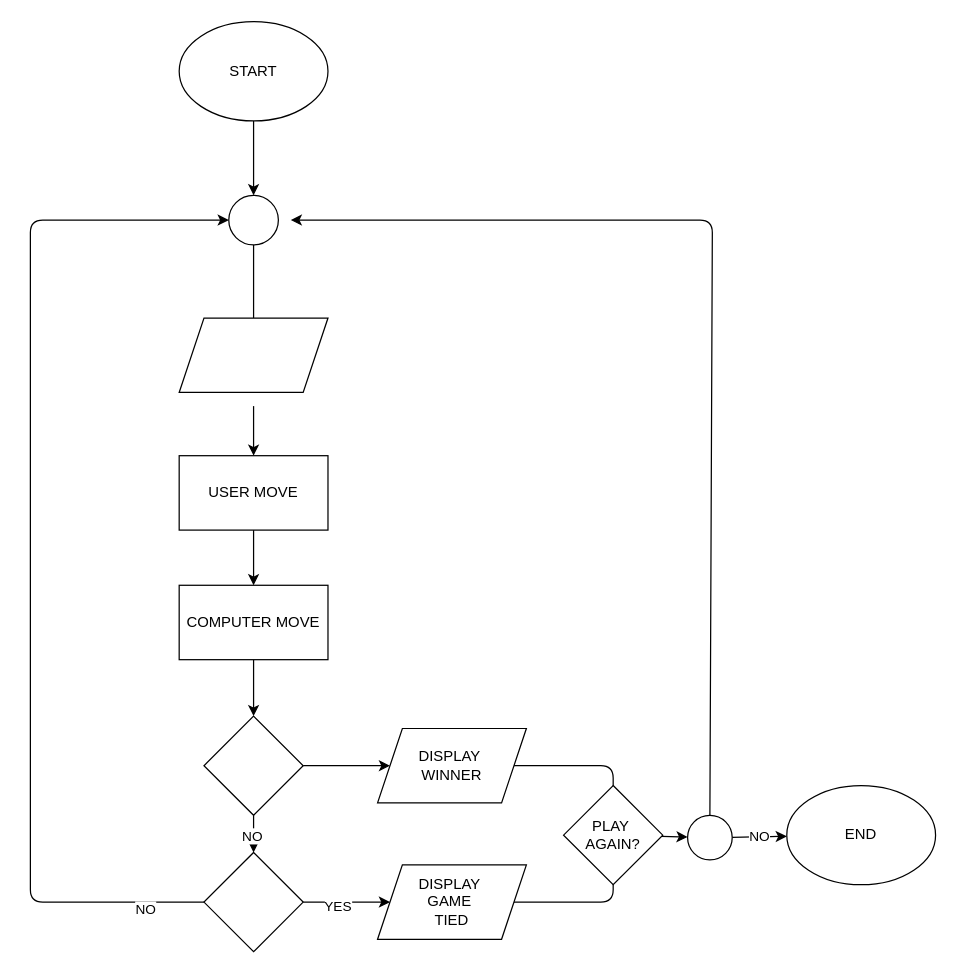
The diagram is 957 pixels wide and 973 high, and some of its shapes have lost their labels. The centre of each missing label's shape, as x and y in pixels:
"DISPLAY BOARD" belongs at pixel 253 354.
"FULL BOARD" belongs at pixel 253 901.
"WINNER?" belongs at pixel 253 765.
